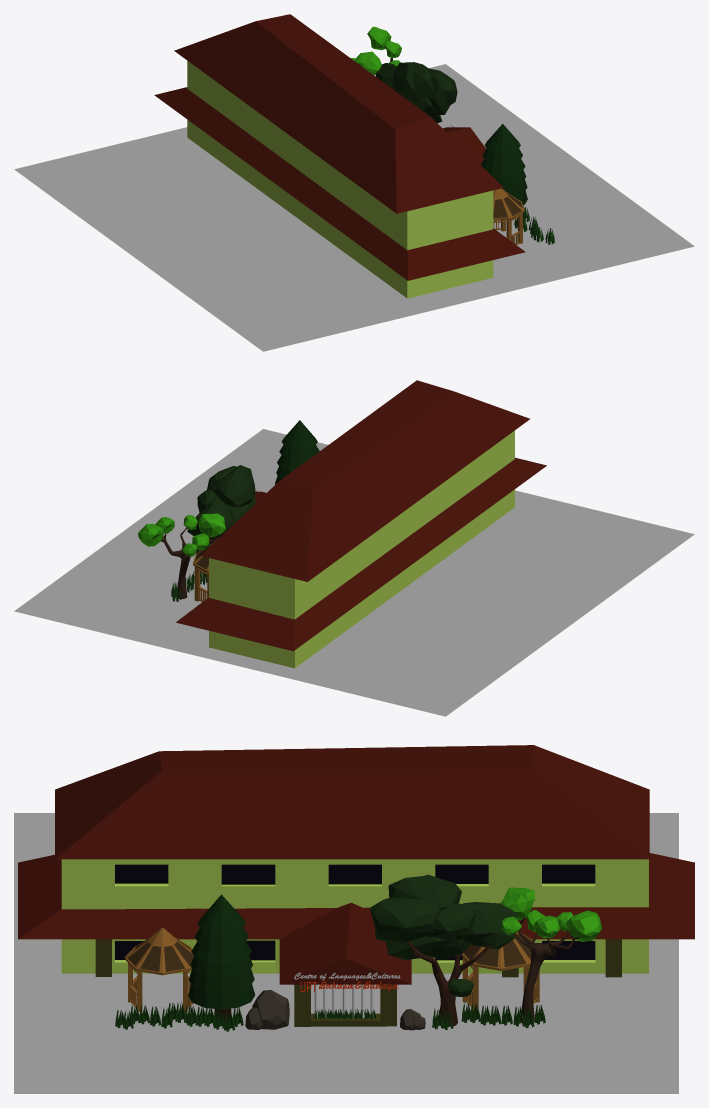
Rendered from GedungUPT1.obj.
3 renders of one model, top to bottom at view 1: azimuth 30°, elevation 25°; view 2: azimuth 150°, elevation 25°; view 3: azimuth 270°, elevation 25°, orthographic. The views are drawn at different scales.
Parts seen in each view (by area): view 1: Plane_Plane.001, Cube.003_Cube.004, Cube.001_Cube.002, Cube.004_Cube.005, Tree2.2_Cube.020, Tree3.1_Cylinder.013, Tree1.1_Icosphere.005, Cube.002_Cube.003; view 2: Plane_Plane.001, Cube.003_Cube.004, Cube.001_Cube.002, Cube.004_Cube.005, Tree2.2_Cube.020, Tree1.1_Icosphere.005, Tree3.1_Cylinder.013; view 3: Plane_Plane.001, Cube.003_Cube.004, Cube.001_Cube.002, Cube.004_Cube.005, Tree2.2_Cube.020, Cube.002_Cube.003, Tree3.1_Cylinder.013, Tree1.1_Icosphere.005, pCylinder3.001_Untitled.091, Stone3.1_Cube.030, pCylinder3_Untitled.036, Cube.005_Cube.006 (+5 smaller).
Part boxes in pixels (<box>): Plane_Plane.001: <box>14,64,694,351</box>; Cube.003_Cube.004: <box>174,14,503,213</box>; Cube.001_Cube.002: <box>187,61,493,298</box>; Cube.004_Cube.005: <box>154,87,525,280</box>; Tree2.2_Cube.020: <box>375,62,457,123</box>; Tree3.1_Cylinder.013: <box>481,124,527,205</box>; Tree1.1_Icosphere.005: <box>351,26,401,75</box>; Cube.002_Cube.003: <box>443,127,485,164</box>; Plane_Plane.001: <box>14,429,694,716</box>; Cube.003_Cube.004: <box>201,380,529,581</box>; Cube.001_Cube.002: <box>209,430,514,668</box>; Cube.004_Cube.005: <box>176,457,546,651</box>; Tree2.2_Cube.020: <box>187,465,255,577</box>; Tree1.1_Icosphere.005: <box>138,513,225,598</box>; Tree3.1_Cylinder.013: <box>275,420,319,484</box>; Plane_Plane.001: <box>14,813,678,1093</box>; Cube.003_Cube.004: <box>55,745,649,859</box>; Cube.001_Cube.002: <box>61,859,648,973</box>; Cube.004_Cube.005: <box>18,853,694,939</box>; Tree2.2_Cube.020: <box>370,874,517,1026</box>; Cube.002_Cube.003: <box>279,902,411,984</box>; Tree3.1_Cylinder.013: <box>188,894,255,1021</box>; Tree1.1_Icosphere.005: <box>500,887,601,1023</box>; pCylinder3.001_Untitled.091: <box>128,940,193,971</box>; Stone3.1_Cube.030: <box>252,990,289,1029</box>; pCylinder3_Untitled.036: <box>463,932,531,966</box>; Cube.005_Cube.006: <box>294,984,310,1026</box>.
Bounding box in the file's own units: 10.07 × 3.34 × 10.31.
